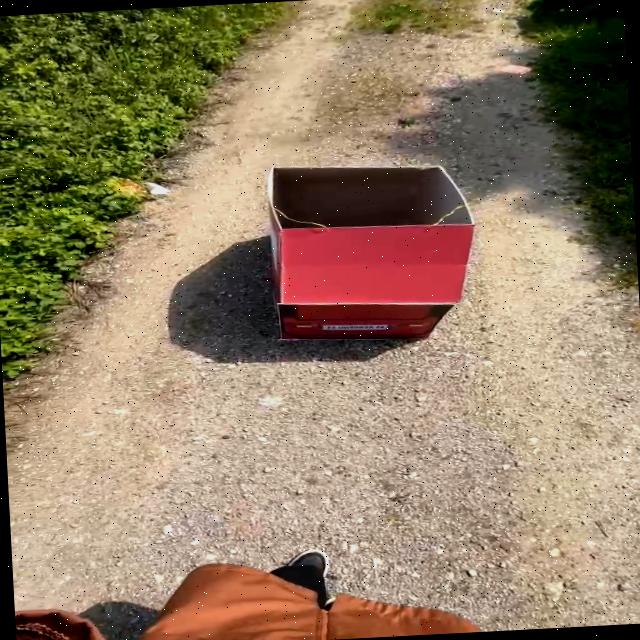red_car: (228, 144, 535, 367)
